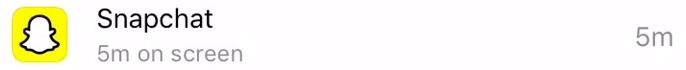name: (91, 4, 224, 36)
time: (91, 42, 137, 70)
